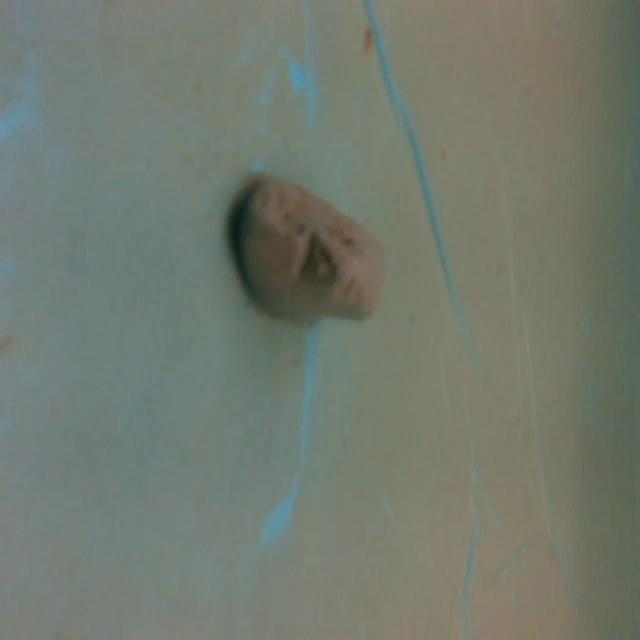rock: (234, 171, 394, 334)
